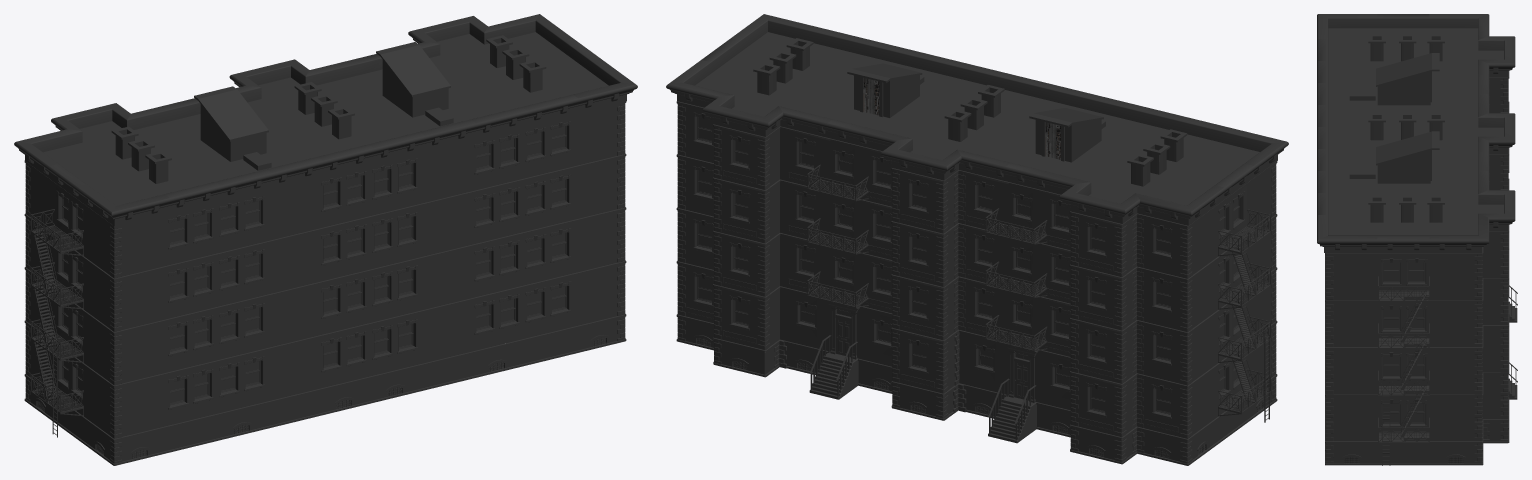
Rendered from SM_NYCB_3.fbx.
3 views of the same model, side by side, from view 1: azimuth 30°, elevation 25°; view 2: azimuth 150°, elevation 25°; view 3: azimuth 270°, elevation 25° (orthographic). The views are drawn at different scales.
Parts seen in each view (by area): view 1: SM_NYCB_3_LOD0; view 2: SM_NYCB_3_LOD0; view 3: SM_NYCB_3_LOD0.
Part boxes in pixels (x1,y1,x2,y2): SM_NYCB_3_LOD0: (14, 14, 637, 465); SM_NYCB_3_LOD0: (666, 14, 1288, 465); SM_NYCB_3_LOD0: (1317, 14, 1517, 465).
Size of the model in its own units: 3300 by 1157 by 1616.
